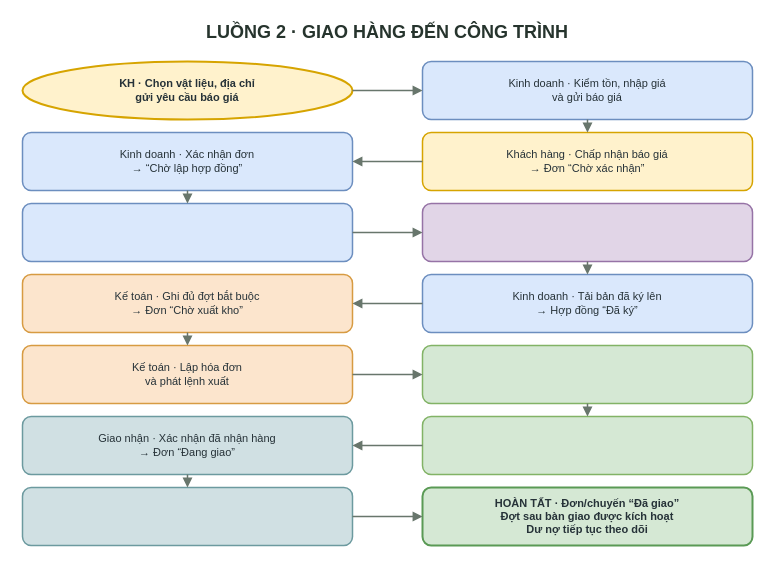
This 774x563 diagram has some shape labels left out. The centre of each missing label's shape, as x and y in pixels:
"Giao nhận · Ghi người nhận, tình trạng, biên bản; chọn “Đã nhận đủ”" belongs at point (187, 516).
"Kho · Duyệt xuất, trừ tồn → Đơn “Sẵn sàng giao”" belongs at point (587, 374).
"Kho · Lập chuyến giao hàng → Chuyến “Đã lên lịch”" belongs at point (587, 445).
"Kinh doanh · Lập hợp đồng + lịch đợt Tổng = giá trị đơn; có đợt sau giao" belongs at point (187, 232).
"Quản lý (khác người lập) duyệt; khách xác nhận nội dung" belongs at point (587, 232).
